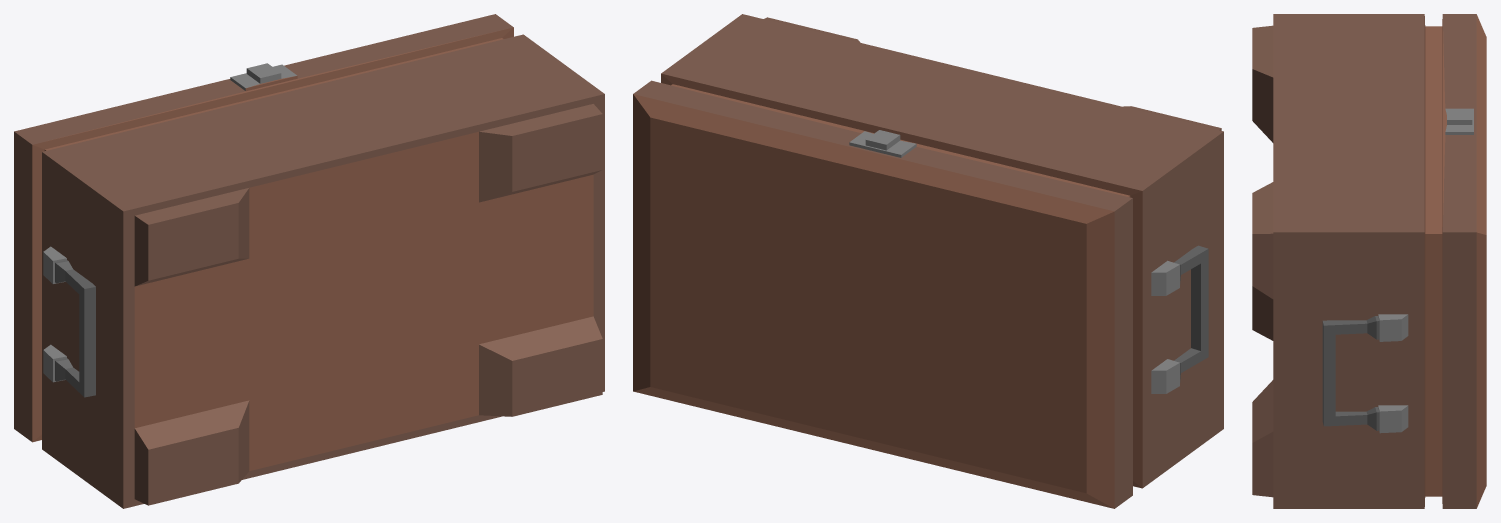
The model's file is Chest.fbx.
The picture shows the model from 3 angles, left to right: view 1: azimuth 30°, elevation 25°; view 2: azimuth 150°, elevation 25°; view 3: azimuth 270°, elevation 25°; orthographic projection. The views are drawn at different scales.
Parts seen in each view (by area): view 1: Chest; view 2: Chest; view 3: Chest.
Boxes of the visible parts, x1,y1,x2,y2 form: Chest: (14,14,604,508); Chest: (633,14,1223,508); Chest: (1252,14,1486,508).
Bounding box in the file's own units: 636 × 366 × 274.
